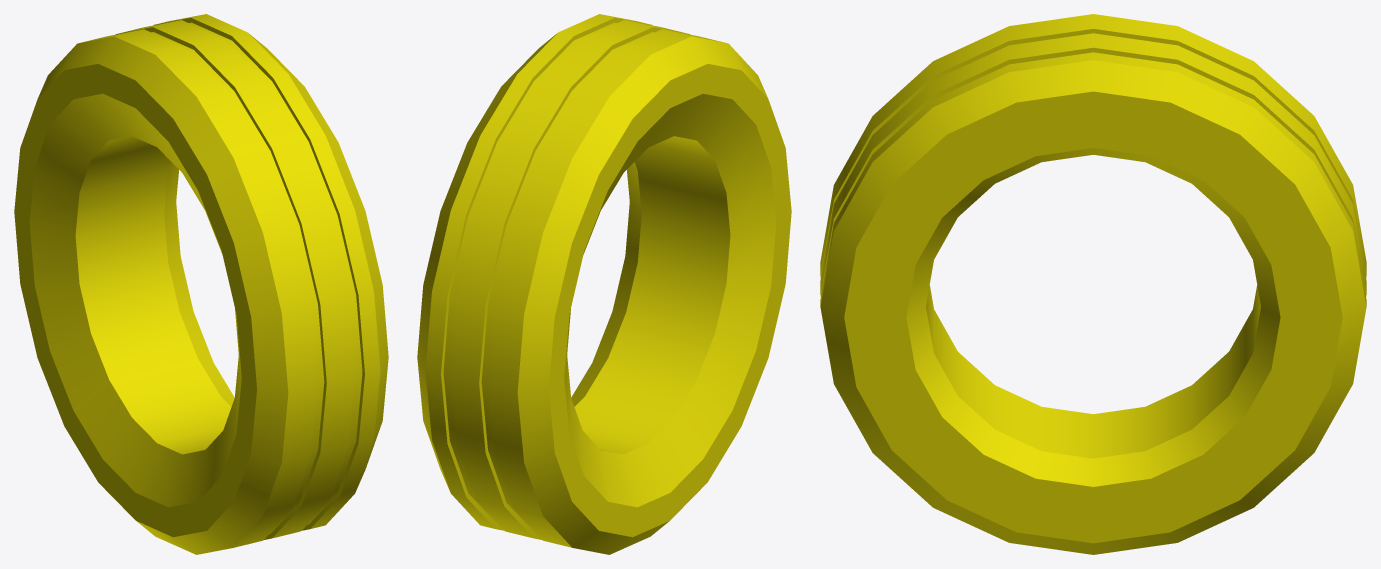
The model's file is _ANM_TireInWell.fbx.
3 renders of one model, left to right at view 1: azimuth 30°, elevation 25°; view 2: azimuth 150°, elevation 25°; view 3: azimuth 270°, elevation 25°, orthographic. The views are drawn at different scales.
Parts seen in each view (by area): view 1: ANM_TireInWell; view 2: ANM_TireInWell; view 3: ANM_TireInWell.
Part boxes in pixels (<box>): ANM_TireInWell: <box>14,14,388,554</box>; ANM_TireInWell: <box>417,14,791,554</box>; ANM_TireInWell: <box>820,14,1366,554</box>.
Size of the model in its own units: 1.88 by 6.58 by 6.58.
